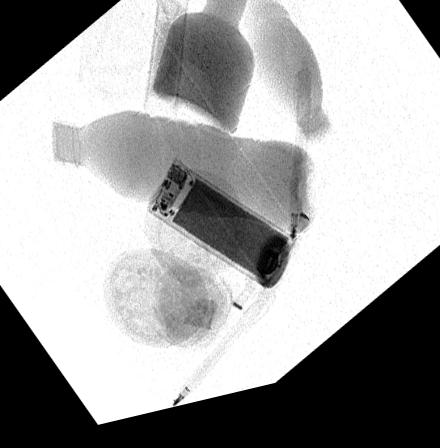Powerbank: (146, 165, 297, 302)
